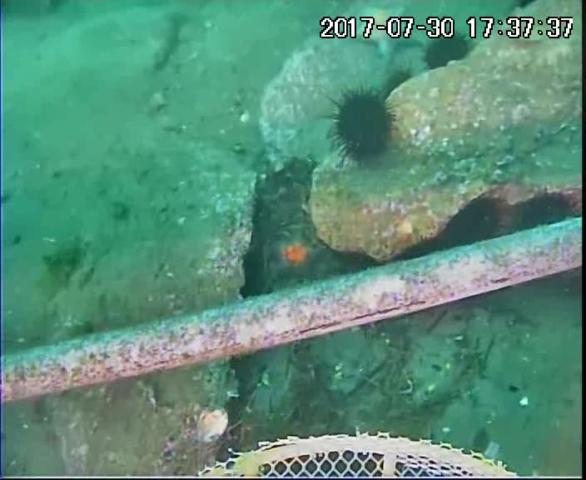echinus: (333, 88, 396, 162), (452, 199, 504, 246), (521, 191, 576, 233), (424, 35, 471, 68)
starfish: (268, 230, 332, 286)
